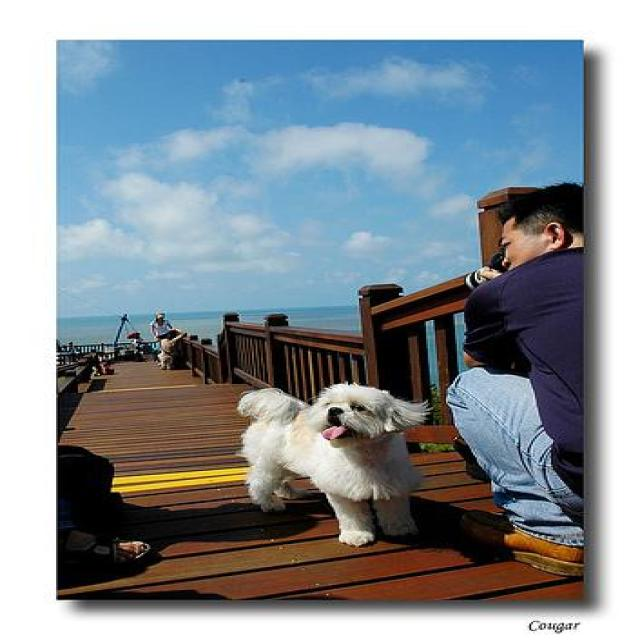shih_tzu: (236, 384, 424, 547)
